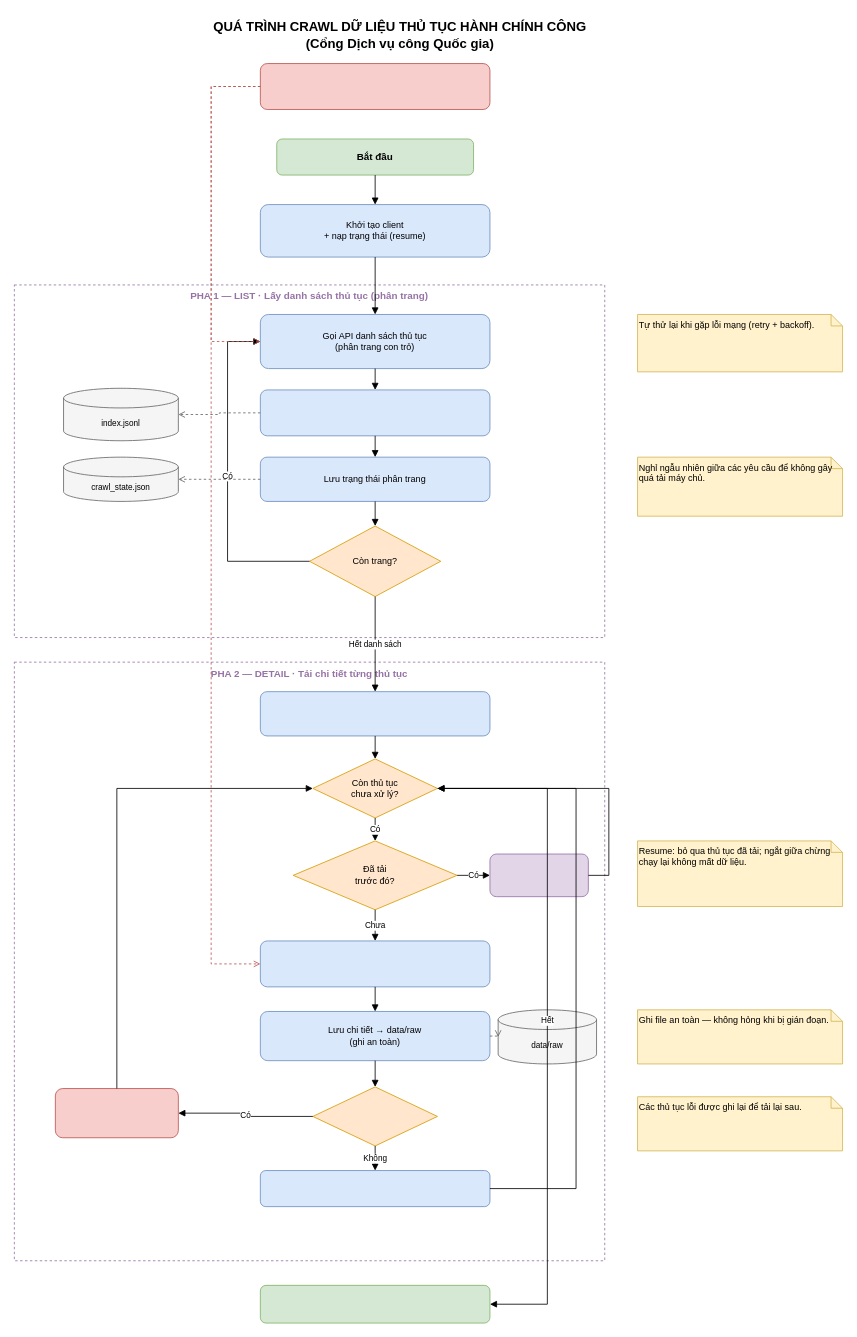
Some shapes in this 857 by 1337 pixel diagram are drawn without their labels. Here are the shapes that lost their labels. From the top down, the box of each, then its label:
(260, 63, 490, 109): Cổng Dịch vụ công Quốc gia (API công khai)
(260, 389, 490, 436): Ghi danh sách → index.jsonl
(260, 691, 490, 736): Đọc danh sách, khử trùng lặp theo id
(489, 853, 588, 897): Bỏ qua
(260, 940, 490, 987): Gọi API chi tiết thủ tục
(55, 1088, 178, 1138): Ghi nhận lỗi để tải lại sau
(312, 1086, 437, 1146): Lỗi?
(260, 1170, 490, 1207): Nghỉ giữa các yêu cầu
(260, 1285, 490, 1323): Hoàn tất → sang bước parse
